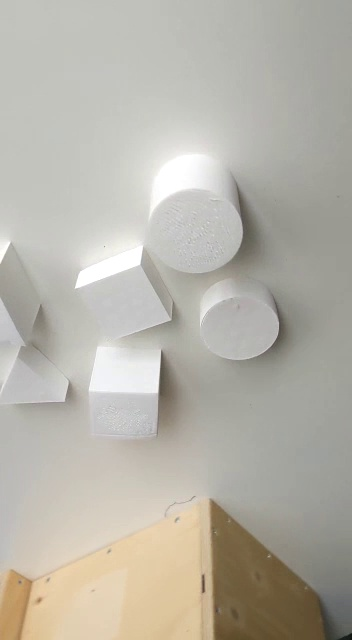Clyinder_short: (195, 276, 281, 363)
Cube: (82, 341, 166, 442)
Cube_short: (71, 241, 178, 348)
Cylinder: (148, 152, 244, 279)
Triangle_short: (1, 339, 73, 409)
